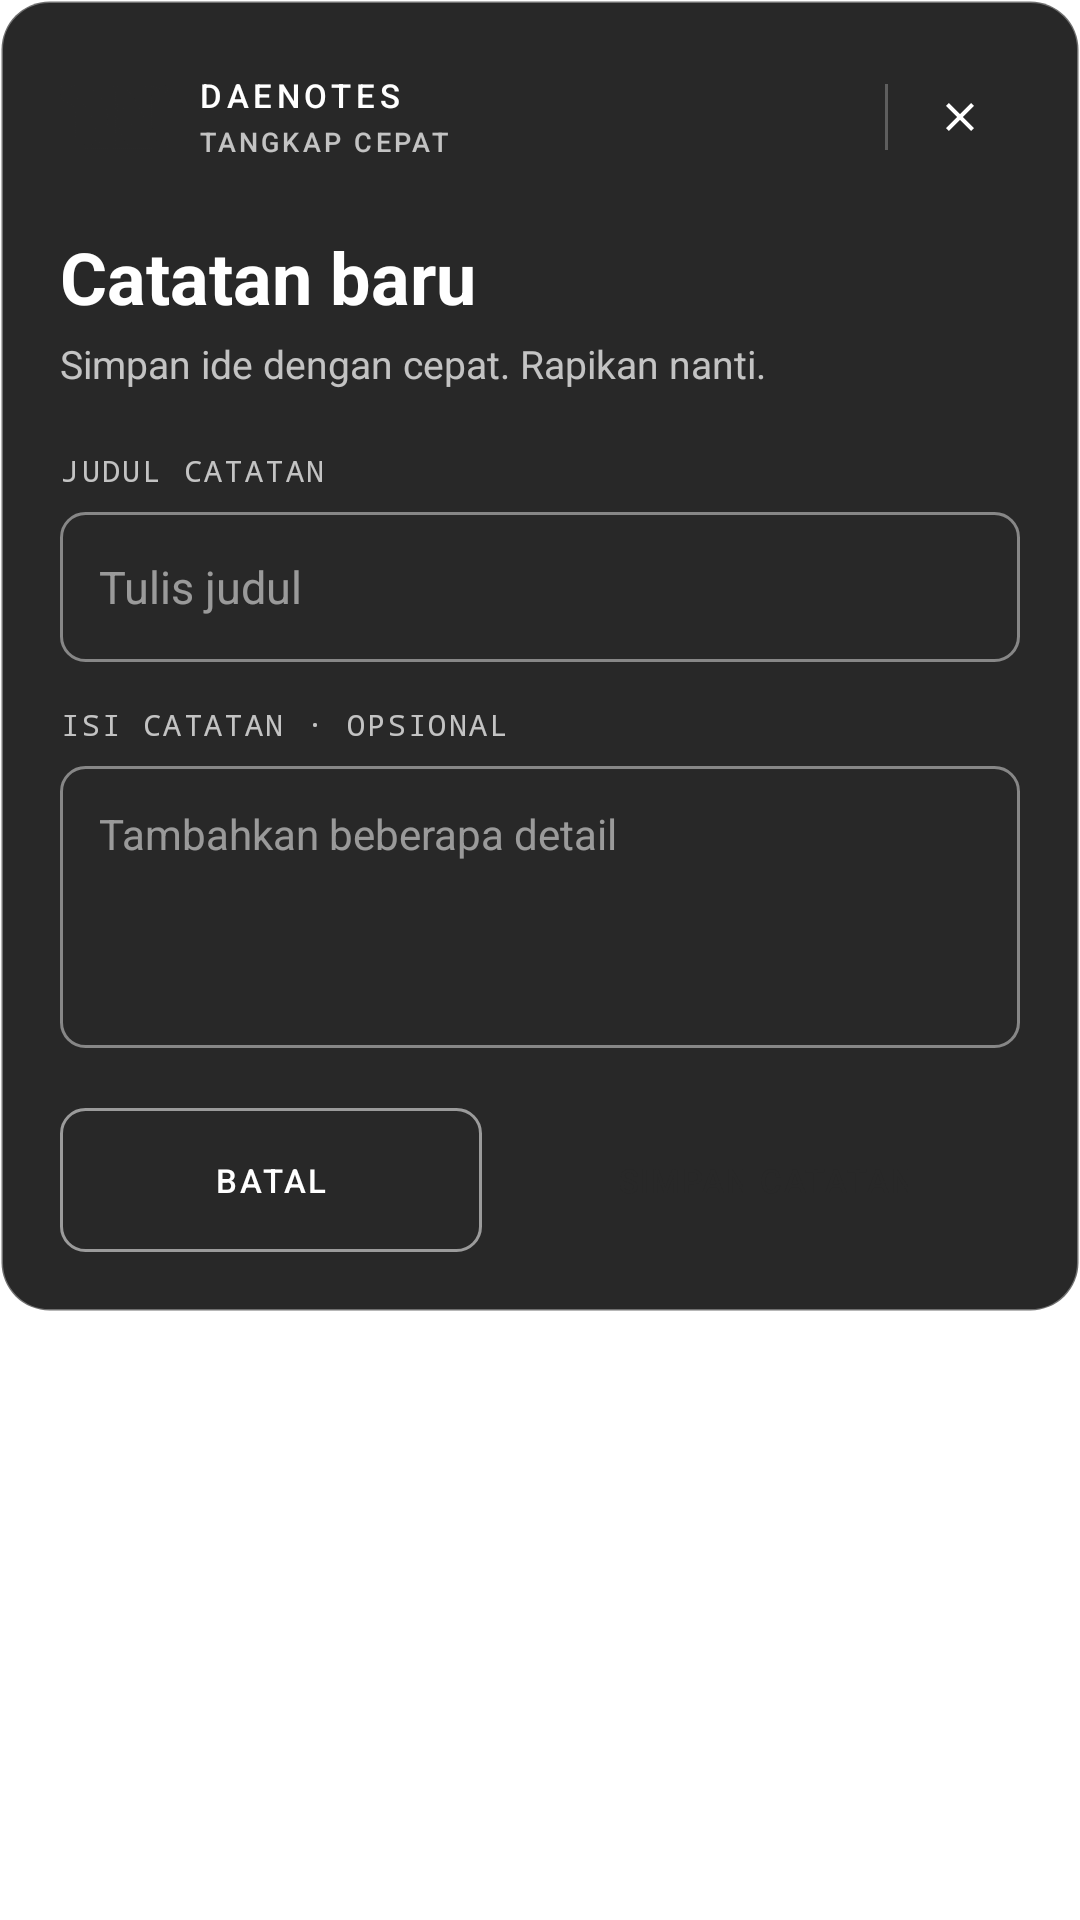

Locate icon controls on the screen. Image size 1080 x 1920, boxes as [left=x1, top=y1, right=x2, bottom=y2].
Tutup: [left=946, top=103, right=974, bottom=131]
